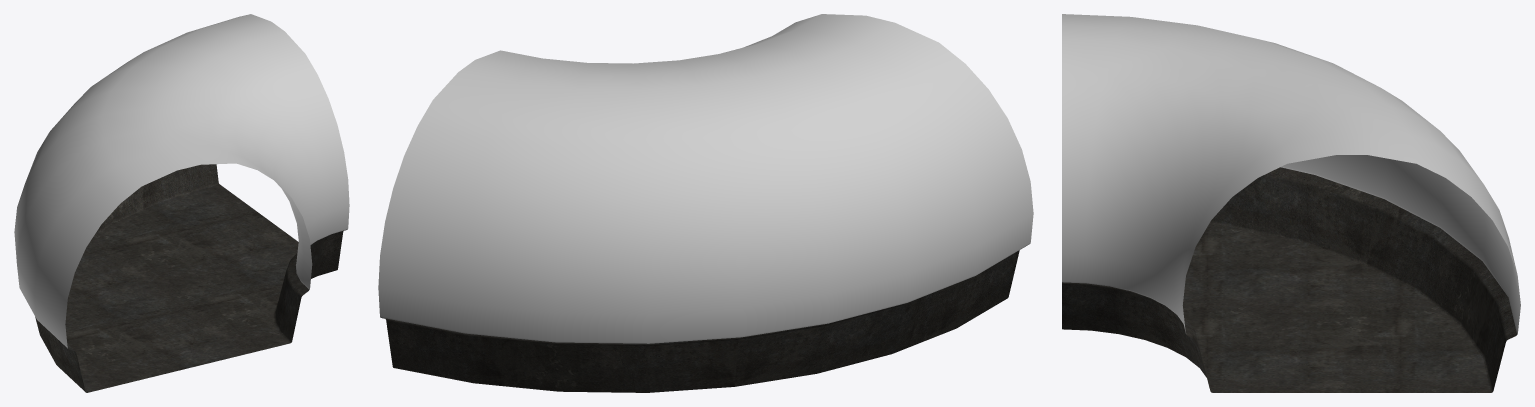
File: tunnel_ancle.obj
3 renders of one model, left to right at view 1: azimuth 30°, elevation 25°; view 2: azimuth 150°, elevation 25°; view 3: azimuth 270°, elevation 25°, orthographic. The views are drawn at different scales.
Visible parts, largest first — view 1: tunnel_ancle; view 2: tunnel_ancle; view 3: tunnel_ancle.
Part boxes in pixels (bbox=[...]): tunnel_ancle: bbox=[14, 14, 349, 392]; tunnel_ancle: bbox=[378, 14, 1033, 392]; tunnel_ancle: bbox=[1062, 14, 1520, 392].
Bounding box in the file's own units: 4.75 × 2.72 × 4.75.
